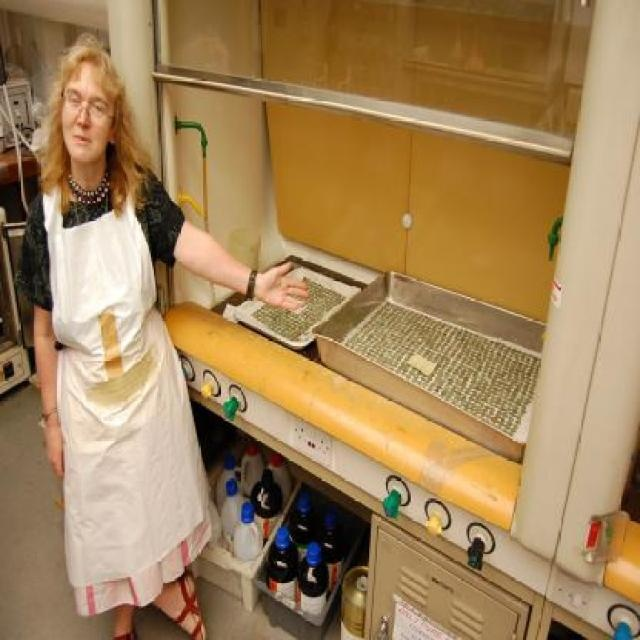obstacle: (16, 27, 313, 639)
